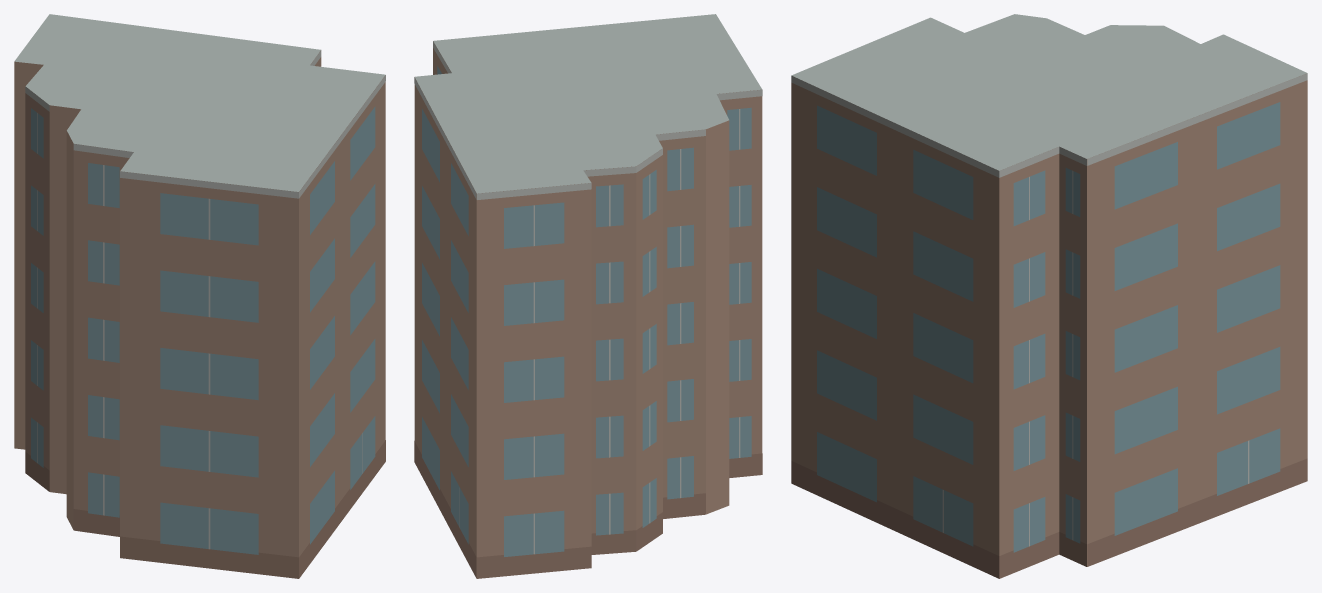
Rendered from survey-upis-32777920.glb.
3 views of the same model, side by side, from view 1: azimuth 30°, elevation 25°; view 2: azimuth 150°, elevation 25°; view 3: azimuth 270°, elevation 25° (orthographic). The views are drawn at different scales.
Visible parts, largest first — view 1: survey-upis-32777920.tmp; view 2: survey-upis-32777920.tmp; view 3: survey-upis-32777920.tmp.
Boxes of the visible parts, x1,y1,x2,y2 form: survey-upis-32777920.tmp: (14, 14, 385, 578); survey-upis-32777920.tmp: (414, 14, 762, 578); survey-upis-32777920.tmp: (791, 14, 1307, 578).
Bounding box in the file's own units: 11.72 × 14.2 × 16.29.
